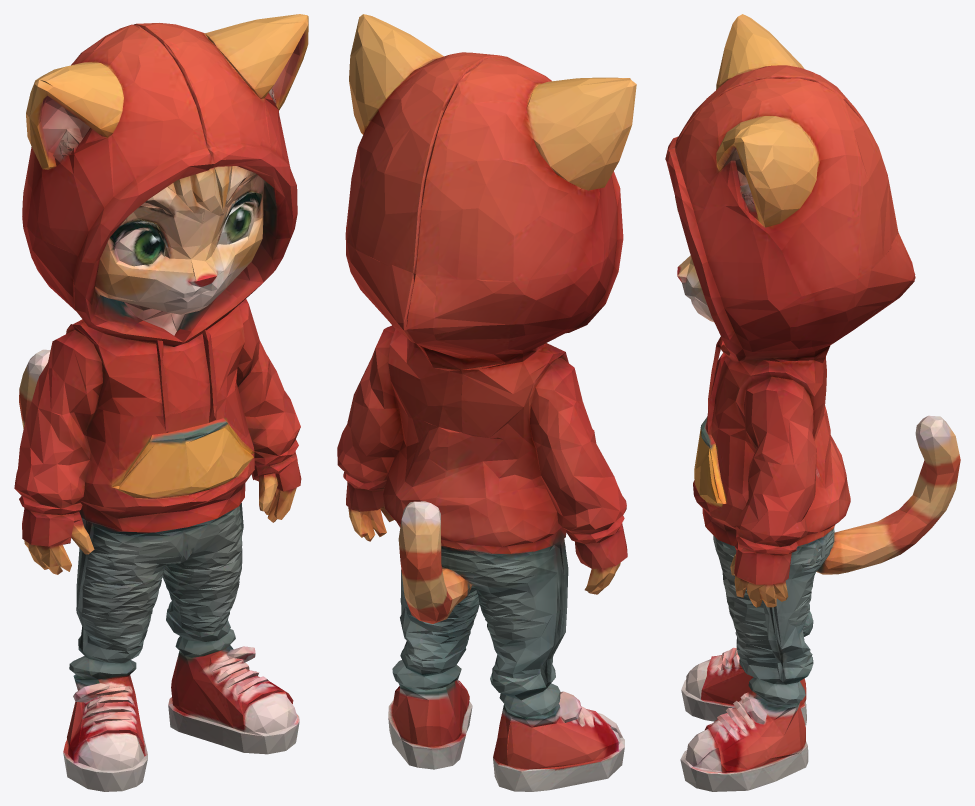
Rendered from redhood.glb.
3 renders of one model, left to right at view 1: azimuth 30°, elevation 25°; view 2: azimuth 150°, elevation 25°; view 3: azimuth 270°, elevation 25°, orthographic. The views are drawn at different scales.
Parts seen in each view (by area): view 1: tmpfc4mxffn.obj; view 2: tmpfc4mxffn.obj; view 3: tmpfc4mxffn.obj.
Boxes of the visible parts, x1,y1,x2,y2 form: tmpfc4mxffn.obj: (14,14,308,791); tmpfc4mxffn.obj: (337,14,636,791); tmpfc4mxffn.obj: (665,14,960,791).
Size of the model in its own units: 0.7578 by 1.82 by 0.7312.
Materials: 1 (1 with a texture image).
